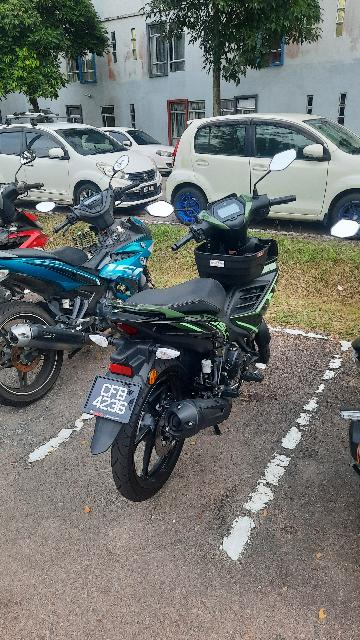License_Plate: (83, 375, 143, 432)
car: (165, 114, 360, 234), (2, 119, 165, 213)
motorcycle: (83, 143, 301, 505), (2, 150, 167, 407)
